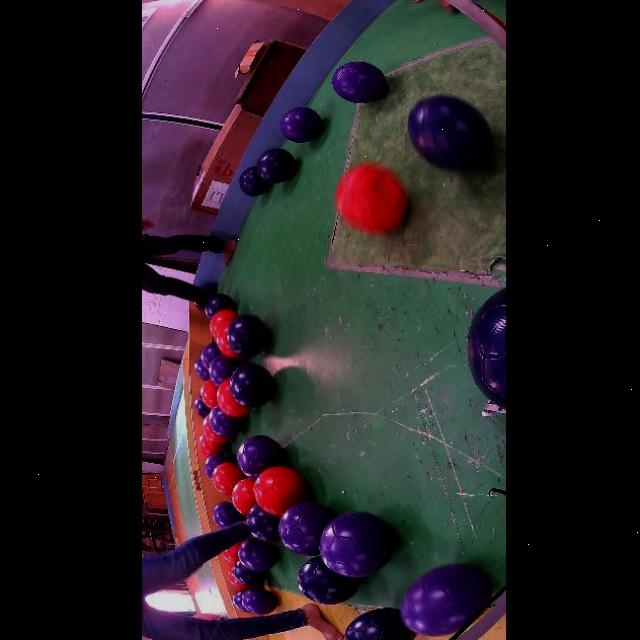B: (407, 96, 491, 171), (466, 289, 505, 409), (296, 556, 358, 604), (343, 608, 414, 640), (228, 364, 274, 408), (226, 314, 269, 357), (256, 148, 295, 184), (246, 504, 279, 543), (238, 166, 269, 196), (232, 561, 266, 588), (204, 294, 234, 319), (194, 395, 209, 418)
P: (399, 564, 491, 636), (318, 512, 394, 577), (277, 502, 334, 556), (331, 61, 385, 104), (236, 436, 286, 480), (279, 107, 322, 142), (237, 538, 278, 572), (208, 407, 245, 438), (208, 355, 239, 386), (241, 588, 276, 614), (212, 502, 243, 528), (203, 453, 231, 479), (200, 342, 221, 370), (231, 589, 250, 613), (193, 357, 208, 381)
R: (334, 162, 407, 234), (252, 466, 307, 517), (215, 379, 249, 418), (210, 462, 244, 495), (231, 479, 255, 515), (215, 321, 238, 358), (209, 309, 237, 338), (198, 433, 227, 457), (202, 415, 226, 443), (199, 380, 217, 409), (226, 566, 248, 589), (221, 541, 241, 564)
